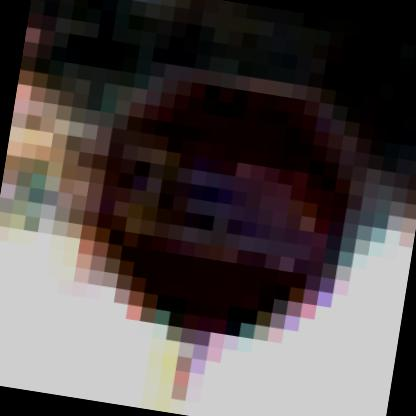stop: (27, 44, 396, 358)
